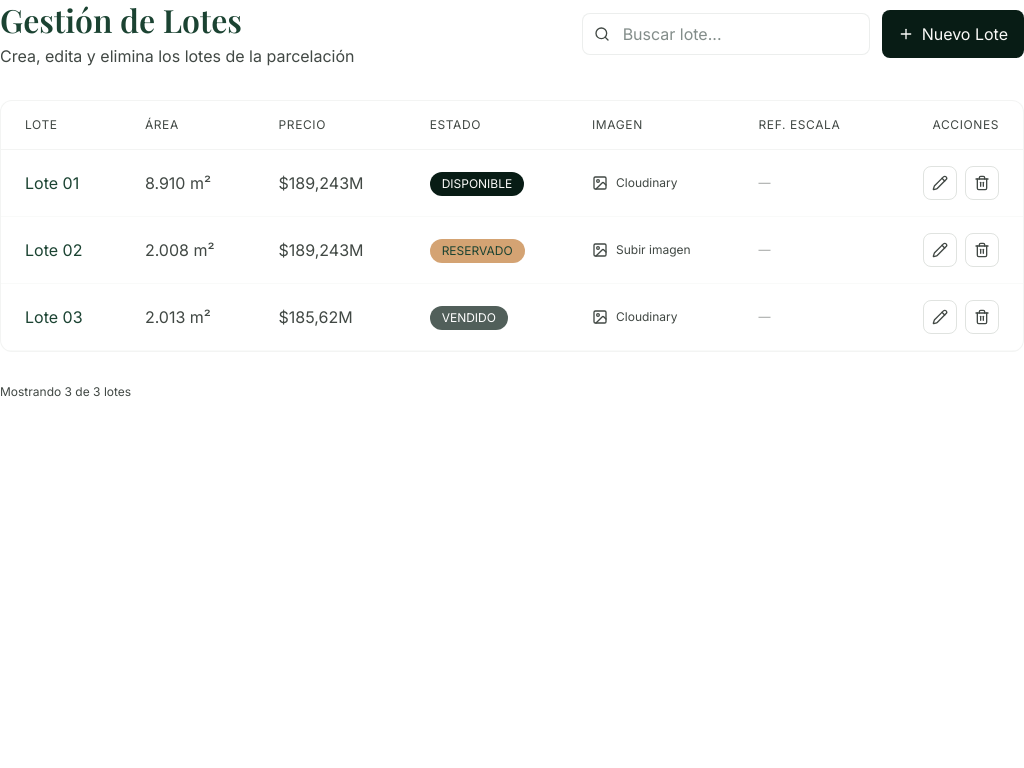
Test: LotsPage › Create lot modal › opens the create modal when 'Nuevo Lote' is clicked
Click the button "Nuevo Lote": (953, 34) [882,10,1023,58]
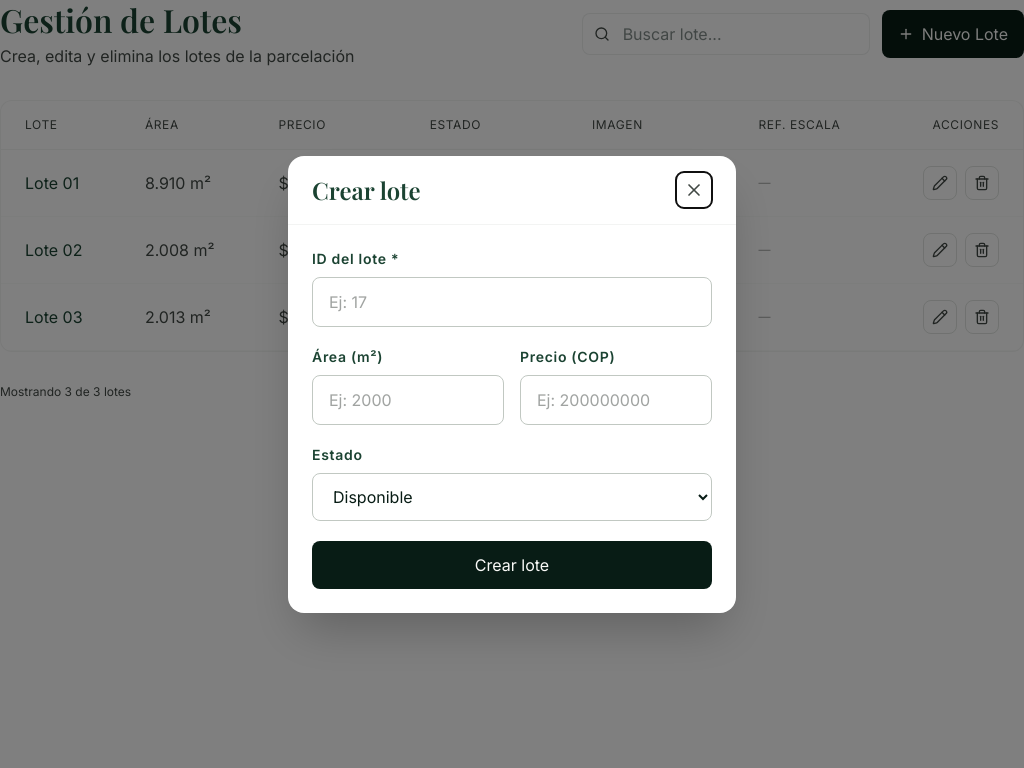
Expected: the heading "Crear lote" is shown, [312,174,421,206]
Expected: the field labelled "ID del lote *" is shown, [312,276,712,326]
